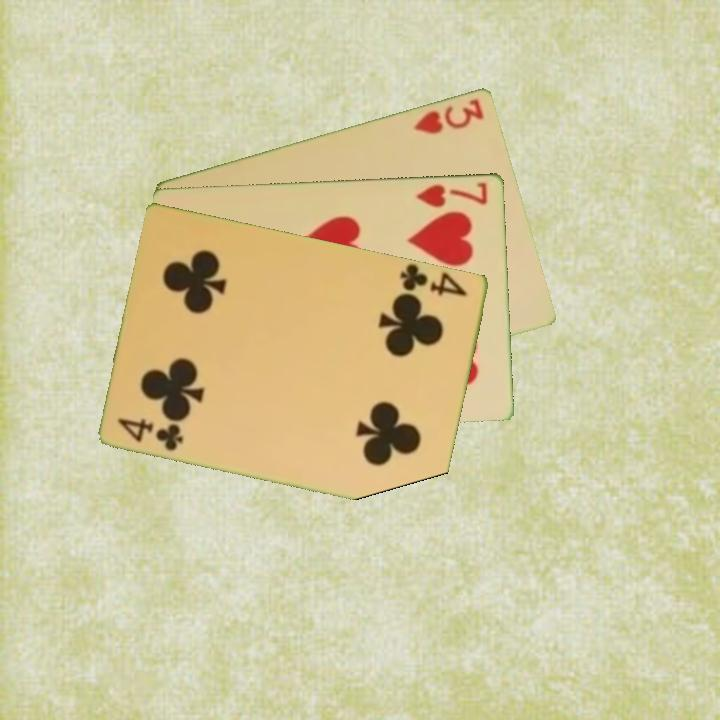3h: (411, 94, 487, 137)
4c: (114, 414, 187, 453), (397, 261, 471, 299)
7h: (414, 178, 491, 210)
